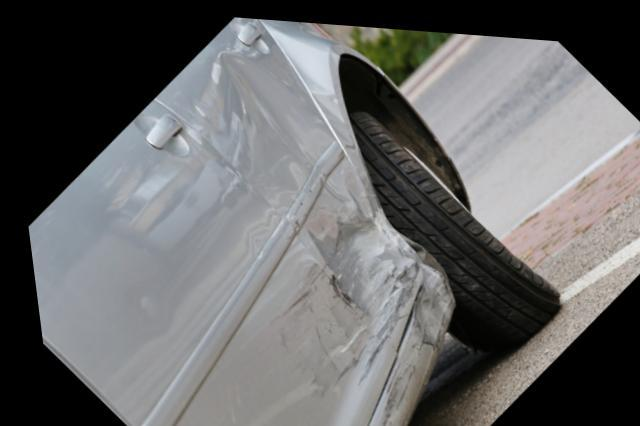dent: (218, 50, 419, 334), (403, 264, 445, 347)
scratch: (271, 257, 386, 395), (368, 356, 418, 426)
